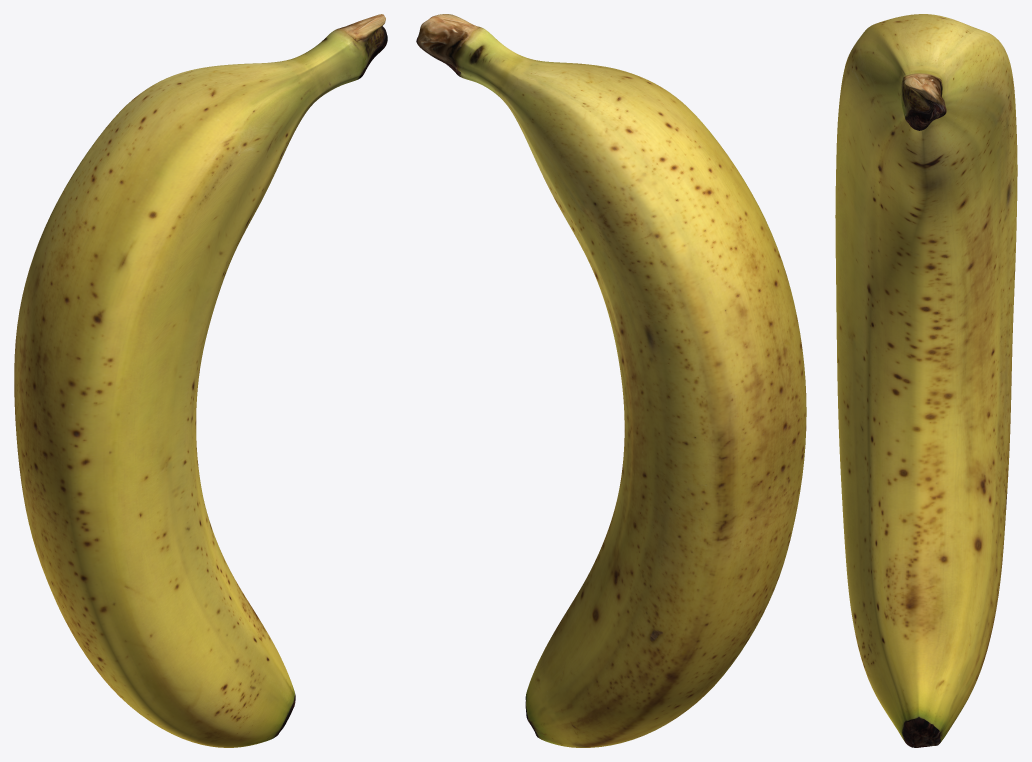
File: banana.fbx
The picture shows the model from 3 angles, left to right: view 1: azimuth 30°, elevation 25°; view 2: azimuth 150°, elevation 25°; view 3: azimuth 270°, elevation 25°; orthographic projection. The views are drawn at different scales.
Parts seen in each view (by area): view 1: Banana_Banana; view 2: Banana_Banana; view 3: Banana_Banana.
Boxes of the visible parts, bbox=[...] form: Banana_Banana: bbox=[14, 14, 387, 747]; Banana_Banana: bbox=[416, 14, 806, 747]; Banana_Banana: bbox=[835, 14, 1017, 747].
Bounding box in the file's own units: 54.07 × 99.79 × 22.92.
1 material, 1 textured.
